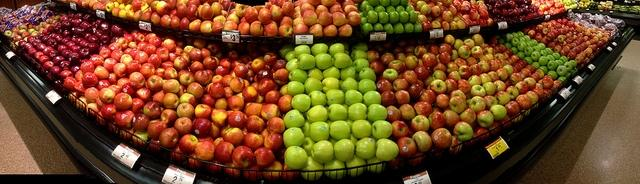apple: (330, 120, 350, 140), (310, 122, 330, 142), (306, 106, 328, 124), (283, 110, 305, 128), (327, 104, 348, 122), (193, 118, 212, 137), (410, 115, 430, 132), (428, 111, 446, 129), (146, 74, 164, 92), (442, 110, 460, 128), (129, 72, 146, 90), (300, 10, 318, 26), (162, 79, 181, 94), (208, 83, 226, 98), (258, 8, 272, 26), (186, 4, 199, 22), (278, 23, 294, 37), (114, 62, 128, 78), (214, 97, 230, 111), (153, 90, 166, 106), (332, 12, 346, 26), (449, 89, 466, 100), (502, 65, 516, 78), (105, 71, 118, 85), (188, 19, 202, 32), (323, 24, 338, 36), (493, 80, 506, 92), (421, 4, 432, 17), (398, 11, 409, 24), (442, 10, 453, 22), (131, 0, 142, 12), (140, 11, 152, 22), (220, 124, 230, 137), (61, 49, 72, 60), (394, 23, 404, 34), (134, 10, 142, 23), (456, 20, 466, 30), (531, 51, 541, 61), (54, 34, 64, 44), (431, 20, 442, 29), (112, 7, 121, 17), (502, 0, 511, 10), (71, 46, 82, 53), (385, 6, 396, 13), (551, 52, 560, 60), (532, 62, 540, 70), (22, 32, 31, 39), (538, 50, 548, 56), (562, 46, 570, 51), (434, 100, 439, 108), (582, 36, 588, 42), (572, 35, 578, 41), (208, 118, 213, 122), (316, 18, 319, 24)
